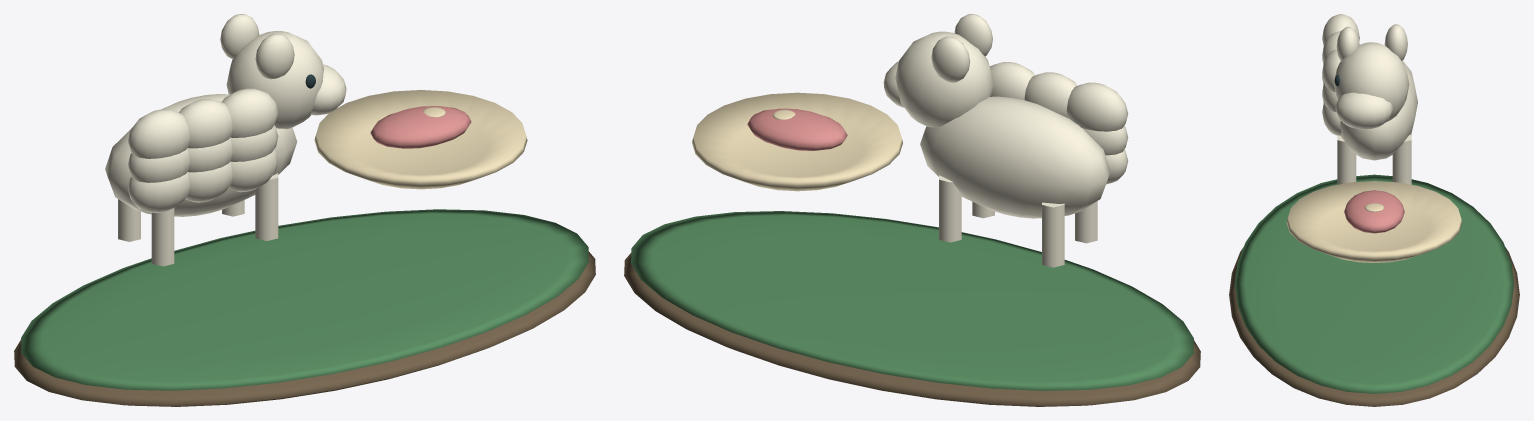
File: lamb-counter.glb
3 views of the same model, side by side, from view 1: azimuth 30°, elevation 25°; view 2: azimuth 150°, elevation 25°; view 3: azimuth 270°, elevation 25° (orthographic). The views are drawn at different scales.
Parts seen in each view (by area): view 1: lamb-counter_surface_01, lamb-counter_surface_02, lamb-counter_surface_05, lamb-counter_surface_00, lamb-counter_surface_04; view 2: lamb-counter_surface_01, lamb-counter_surface_02, lamb-counter_surface_05, lamb-counter_surface_00, lamb-counter_surface_04; view 3: lamb-counter_surface_01, lamb-counter_surface_02, lamb-counter_surface_05, lamb-counter_surface_00, lamb-counter_surface_04.
Part boxes in pixels (x1,y1,x2,y2): lamb-counter_surface_01: (21,209,588,390); lamb-counter_surface_02: (105,14,346,266); lamb-counter_surface_05: (314,90,527,189); lamb-counter_surface_00: (14,251,595,406); lamb-counter_surface_04: (370,106,471,148); lamb-counter_surface_01: (631,211,1193,390); lamb-counter_surface_02: (883,14,1128,267); lamb-counter_surface_05: (692,92,902,191); lamb-counter_surface_00: (624,253,1200,406); lamb-counter_surface_04: (747,108,847,150); lamb-counter_surface_01: (1235,174,1513,393); lamb-counter_surface_02: (1322,14,1417,184); lamb-counter_surface_05: (1286,181,1462,262); lamb-counter_surface_00: (1229,247,1519,406); lamb-counter_surface_04: (1344,190,1404,233).
Bounding box in the file's own units: 4.56 × 2.48 × 2.5.
